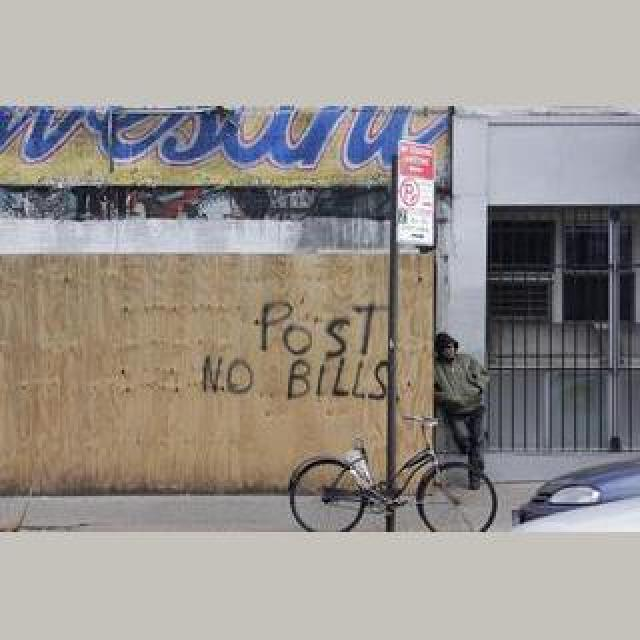Bus-Bike: (510, 456, 640, 530)
MC-Bike: (434, 330, 490, 488)
Person: (289, 416, 497, 532)
